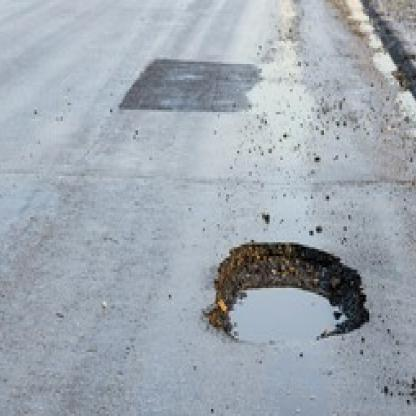pothole: (203, 238, 371, 341)
